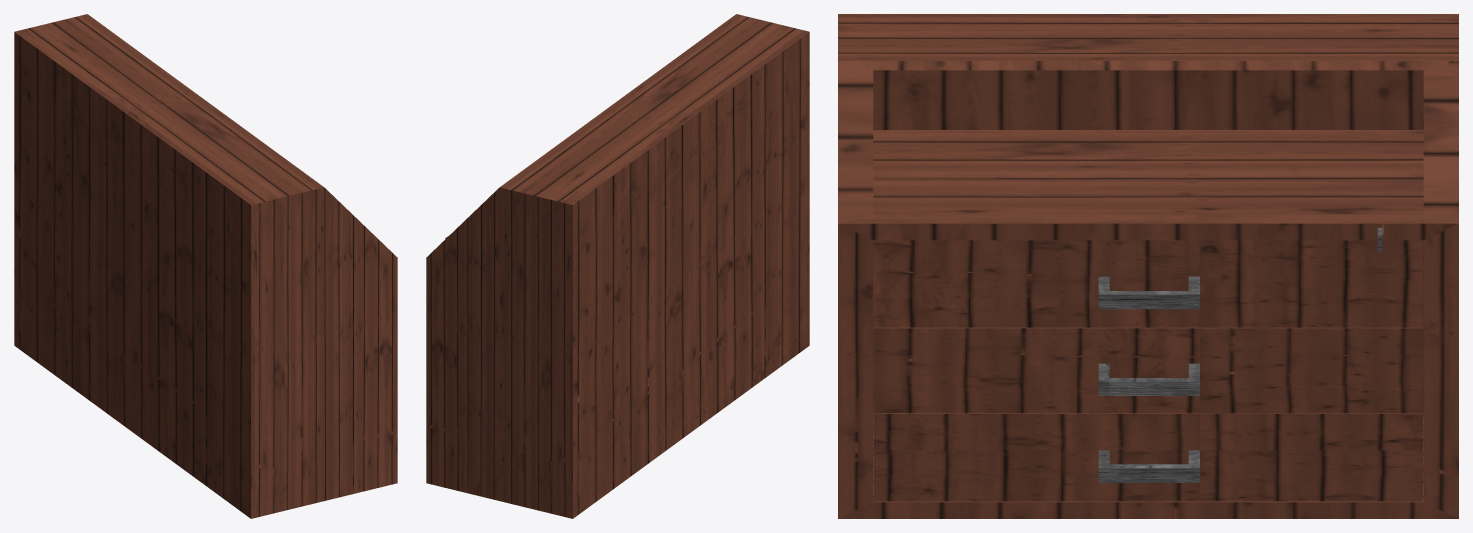
Rendered from drawer.fbx.
3 views of the same model, side by side, from view 1: azimuth 30°, elevation 25°; view 2: azimuth 150°, elevation 25°; view 3: azimuth 270°, elevation 25° (orthographic). The views are drawn at different scales.
Visible parts, largest first — view 1: Main; view 2: Main; view 3: Main, Drawer3, Drawer1, Drawer2.
Boxes of the visible parts, x1,y1,x2,y2 form: Main: (14,14,397,518); Main: (426,14,809,518); Main: (838,14,1458,518); Drawer3: (873,413,1423,501); Drawer1: (873,228,1423,327); Drawer2: (873,327,1423,413).
Bounding box in the file's own units: 2.38 × 4.09 × 5.6.
